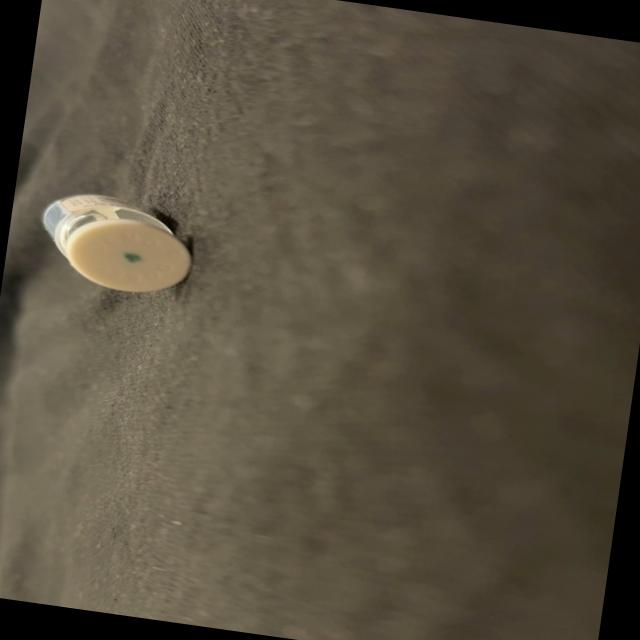fentanl_citrat: (35, 188, 196, 298)
